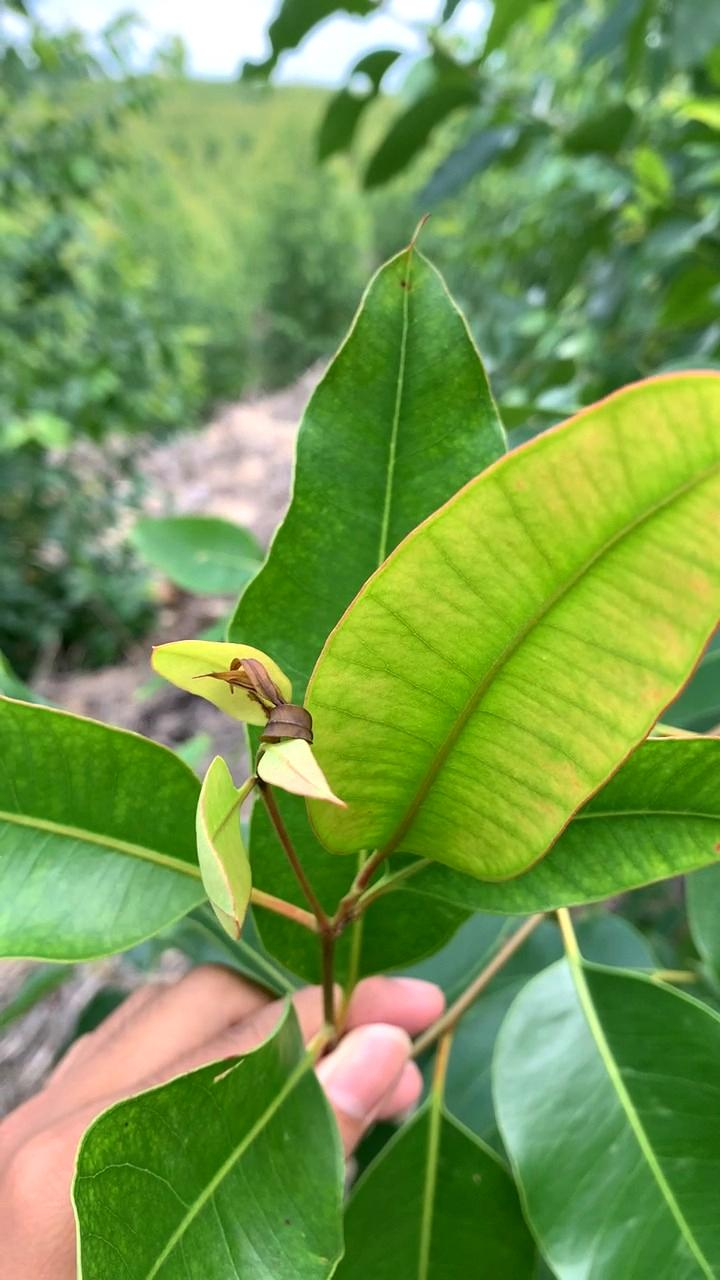Helopeltis-Withered Sprout: (196, 638, 337, 763)
